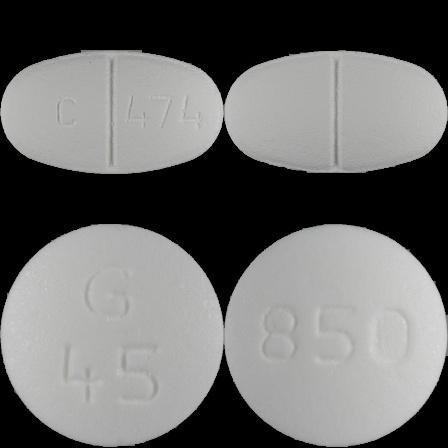53808-0713: (0, 0, 224, 224)
